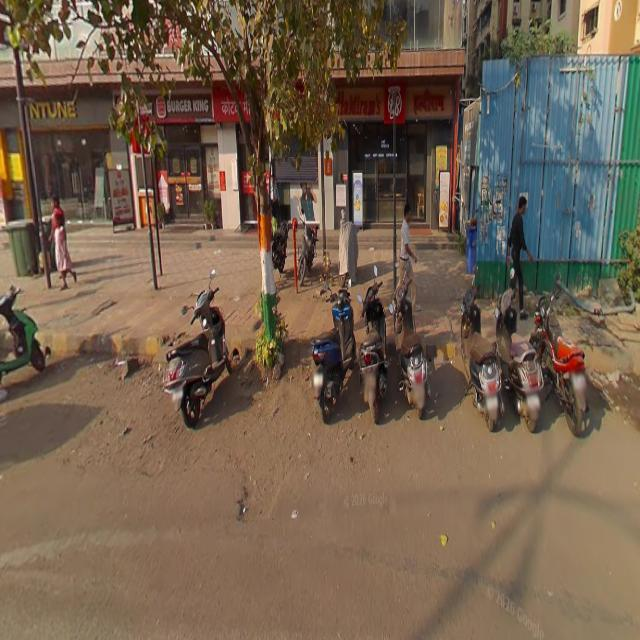Legalparking: (0, 280, 608, 435)
illegalparking: (268, 210, 325, 312)
